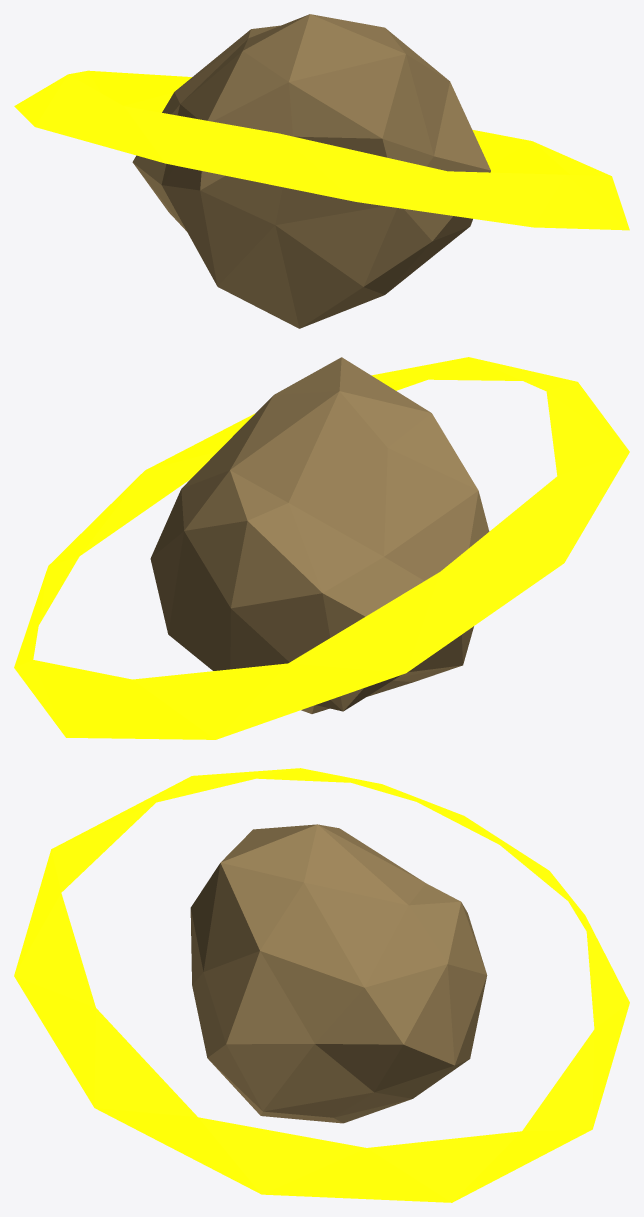
Rendered from enviroment_3.fbx.
3 renders of one model, top to bottom at view 1: azimuth 30°, elevation 25°; view 2: azimuth 150°, elevation 25°; view 3: azimuth 270°, elevation 25°, orthographic. The views are drawn at different scales.
Parts seen in each view (by area): view 1: Icosphere.001; view 2: Icosphere.001; view 3: Icosphere.001.
Part boxes in pixels (x1=…): Icosphere.001: x1=14, y1=14, x2=629, y2=328; Icosphere.001: x1=14, y1=357, x2=629, y2=739; Icosphere.001: x1=14, y1=768, x2=629, y2=1202.
Size of the model in its own units: 2088 by 1148 by 2188.
